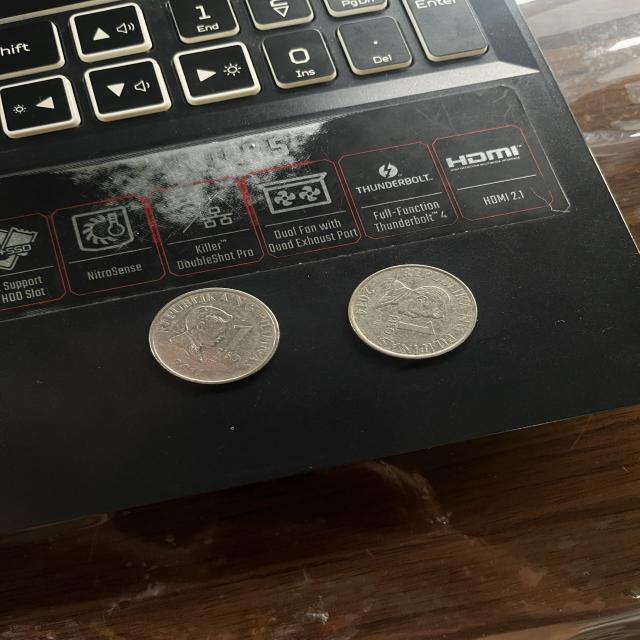1_Old_Front: (169, 293, 270, 360), (370, 275, 452, 350)
